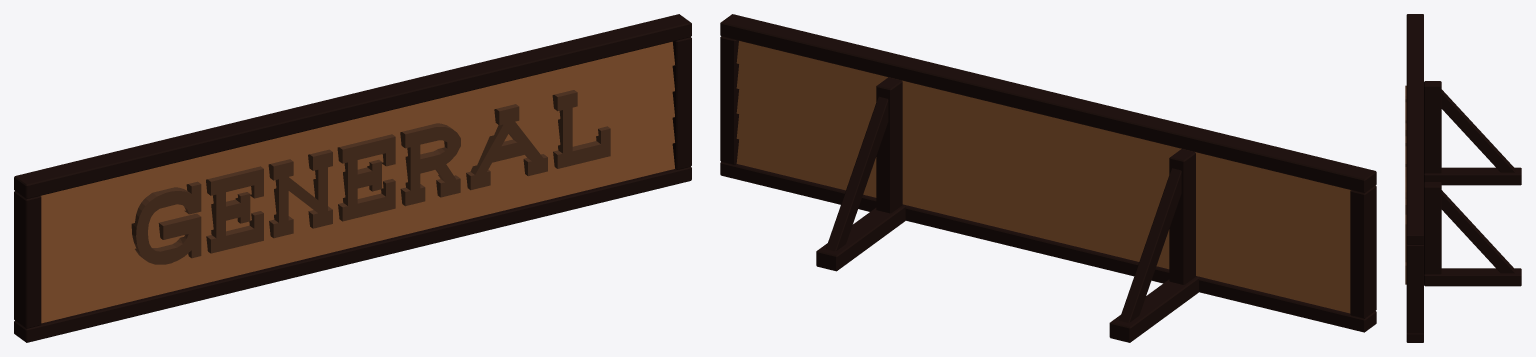
File: ww_saloon_sign_c.glb
3 views of the same model, side by side, from view 1: azimuth 30°, elevation 25°; view 2: azimuth 150°, elevation 25°; view 3: azimuth 270°, elevation 25° (orthographic). The views are drawn at different scales.
Visible parts, largest first — view 1: General_Sign_A; view 2: General_Sign_A; view 3: General_Sign_A.
Part boxes in pixels (x1,y1,x2,y2): General_Sign_A: [14, 14, 691, 342]; General_Sign_A: [720, 14, 1376, 342]; General_Sign_A: [1405, 14, 1521, 342].
Size of the model in its own units: 10.56 by 2.4 by 2.34.
